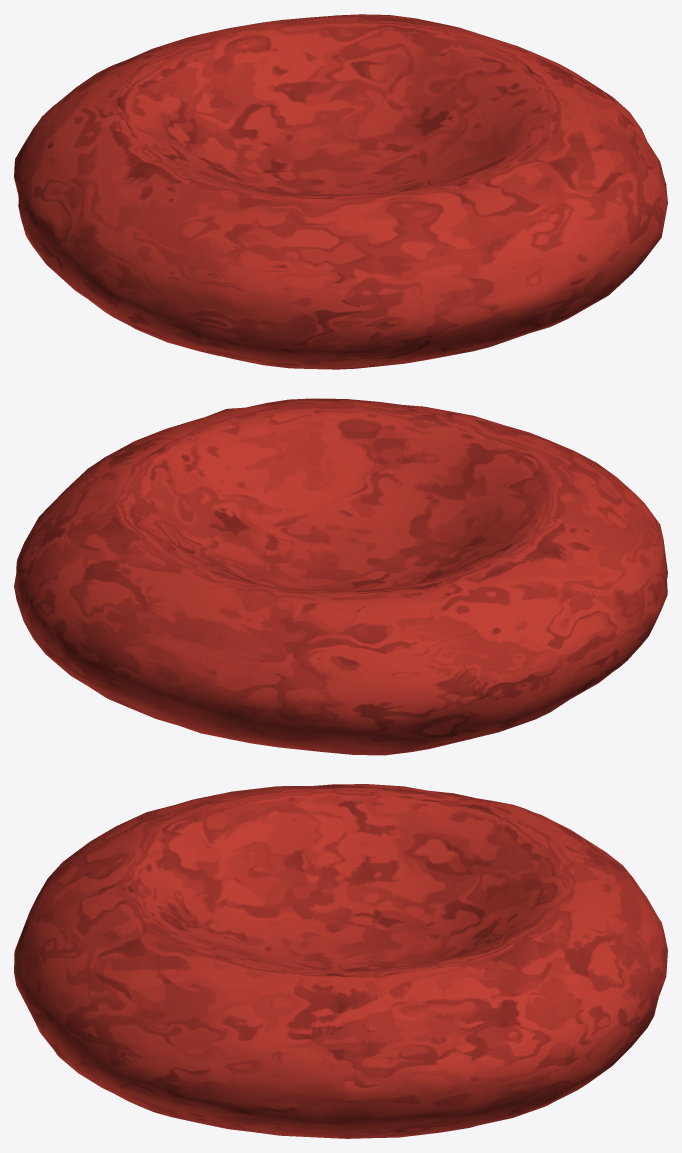
File: Baked_RedBloodCell_Realistic.fbx
The picture shows the model from 3 angles, top to bottom: view 1: azimuth 30°, elevation 25°; view 2: azimuth 150°, elevation 25°; view 3: azimuth 270°, elevation 25°; orthographic projection.
Visible parts, largest first — view 1: RBC; view 2: RBC; view 3: RBC.
Part boxes in pixels (x1,y1,x2,y2): RBC: (14,14,667,369); RBC: (14,398,667,755); RBC: (14,784,667,1138).
Size of the model in its own units: 483 by 136 by 484.
Materials: 1 (1 with a texture image).
